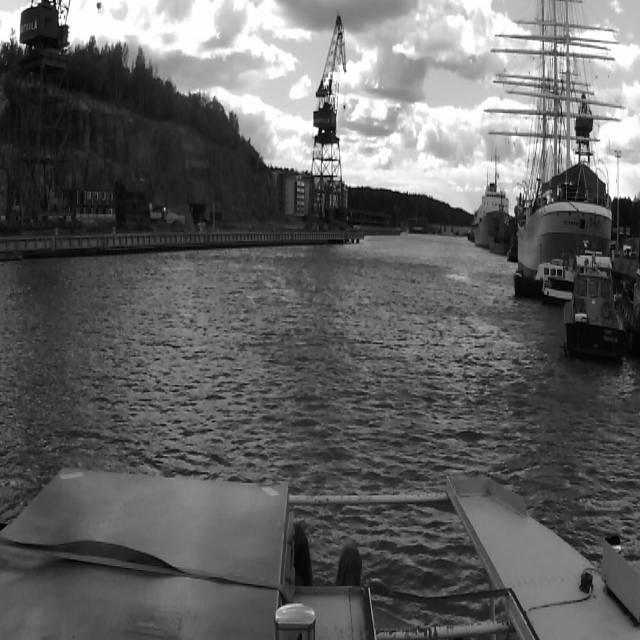ship: (516, 0, 616, 250), (564, 269, 624, 370), (489, 191, 511, 256), (473, 168, 489, 248)
